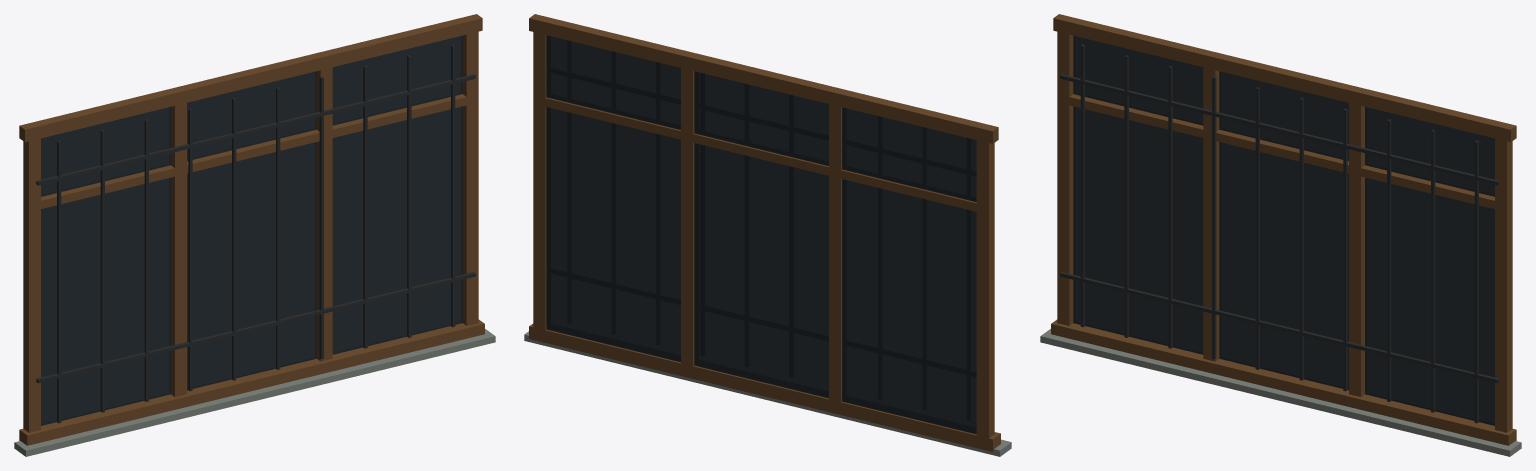
Rendered from school_window.glb.
3 views of the same model, side by side, from view 1: azimuth 30°, elevation 25°; view 2: azimuth 150°, elevation 25°; view 3: azimuth 330°, elevation 25° (orthographic).
Visible parts, largest first — view 1: SchoolWindow; view 2: SchoolWindow; view 3: SchoolWindow.
Part boxes in pixels (x1,y1,x2,y2): SchoolWindow: (14,14,495,456); SchoolWindow: (524,14,1011,456); SchoolWindow: (1040,14,1521,456).
Size of the model in its own units: 2.36 by 1.54 by 0.11.
